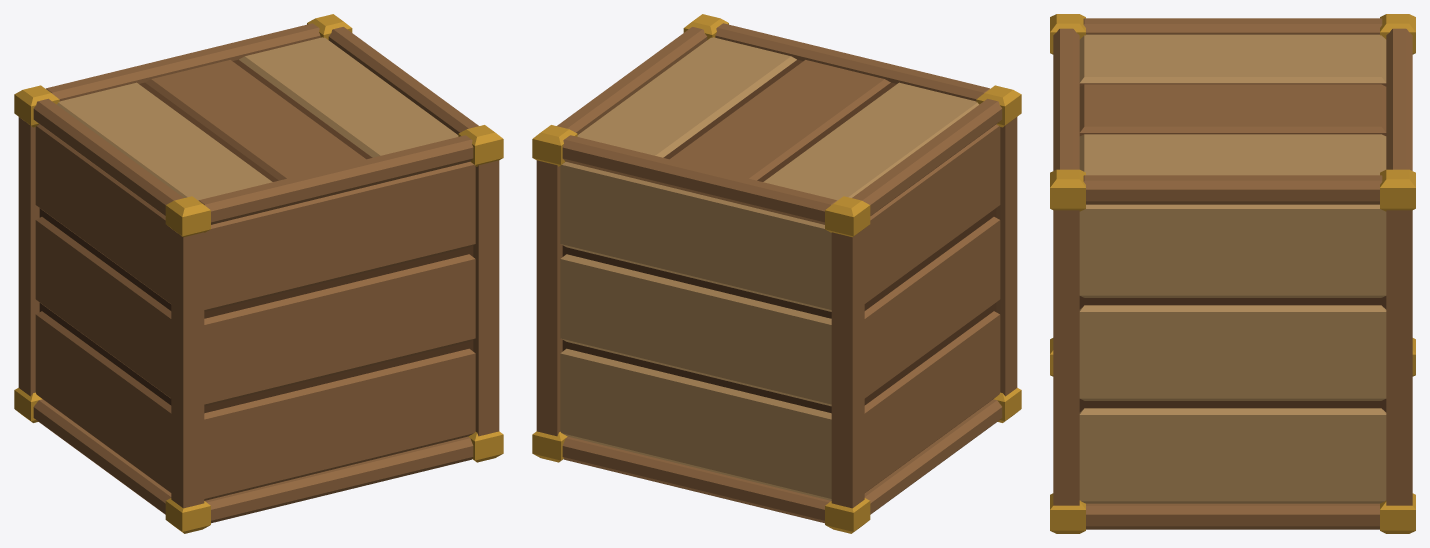
The model's file is Crate_32.glb.
3 renders of one model, left to right at view 1: azimuth 30°, elevation 25°; view 2: azimuth 150°, elevation 25°; view 3: azimuth 270°, elevation 25°, orthographic. The views are drawn at different scales.
Parts seen in each view (by area): view 1: Crate_32; view 2: Crate_32; view 3: Crate_32.
Part boxes in pixels (x1,y1,x2,y2): Crate_32: (14, 14, 503, 533); Crate_32: (532, 14, 1021, 533); Crate_32: (1050, 14, 1415, 533).
Size of the model in its own units: 2.46 by 2.39 by 2.23.
